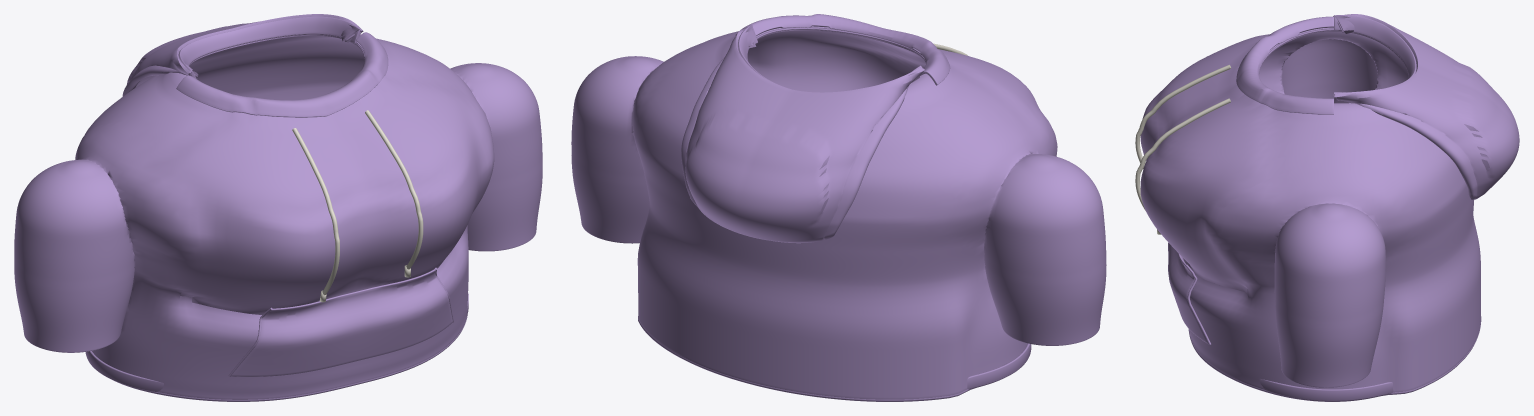
File: Feminine-sweatshirt-top.glb
3 renders of one model, left to right at view 1: azimuth 30°, elevation 25°; view 2: azimuth 150°, elevation 25°; view 3: azimuth 270°, elevation 25°, orthographic. The views are drawn at different scales.
Visible parts, largest first — view 1: Clothing / joined sweatshirt186, Hoodie / kangaroo pocket, Hoodie / soft front fold188, Hoodie / seated rear fold187, Hoodie / resting hood, Hoodie / ribbed hem, Hoodie / drawcord -1 export, Hoodie / drawcord 1 export, Shirt / seated hem export; view 2: Clothing / joined sweatshirt186, Hoodie / resting hood, Hoodie / soft front fold188, Shirt / seated hem export, Hoodie / ribbed hem; view 3: Clothing / joined sweatshirt186, Hoodie / resting hood, Hoodie / soft front fold188, Hoodie / ribbed hem, Hoodie / seated rear fold187, Hoodie / kangaroo pocket, Hoodie / drawcord 1 export, Hoodie / drawcord -1 export, Shirt / seated hem export.
Part boxes in pixels (x1,y1,x2,y2): Clothing / joined sweatshirt186: [14, 34, 542, 399]; Hoodie / kangaroo pocket: [230, 269, 452, 376]; Hoodie / soft front fold188: [176, 32, 388, 117]; Hoodie / seated rear fold187: [178, 16, 361, 78]; Hoodie / resting hood: [122, 14, 363, 96]; Hoodie / ribbed hem: [85, 293, 468, 391]; Hoodie / drawcord -1 export: [292, 128, 339, 295]; Hoodie / drawcord 1 export: [365, 110, 423, 269]; Shirt / seated hem export: [115, 315, 467, 401]; Clothing / joined sweatshirt186: [571, 26, 1106, 399]; Hoodie / resting hood: [681, 25, 924, 243]; Hoodie / soft front fold188: [735, 14, 950, 85]; Shirt / seated hem export: [638, 316, 999, 401]; Hoodie / ribbed hem: [967, 343, 1031, 389]; Clothing / joined sweatshirt186: [1140, 27, 1480, 392]; Hoodie / resting hood: [1334, 14, 1519, 199]; Hoodie / soft front fold188: [1236, 16, 1333, 114]; Hoodie / ribbed hem: [1259, 379, 1393, 401]; Hoodie / seated rear fold187: [1334, 15, 1416, 103]; Hoodie / kangaroo pocket: [1168, 242, 1208, 343]; Hoodie / drawcord 1 export: [1135, 98, 1230, 210]; Hoodie / drawcord -1 export: [1135, 64, 1230, 168]; Shirt / seated hem export: [1188, 316, 1481, 401].
Bounding box in the file's own units: 0.9381 × 0.4907 × 0.6383.
